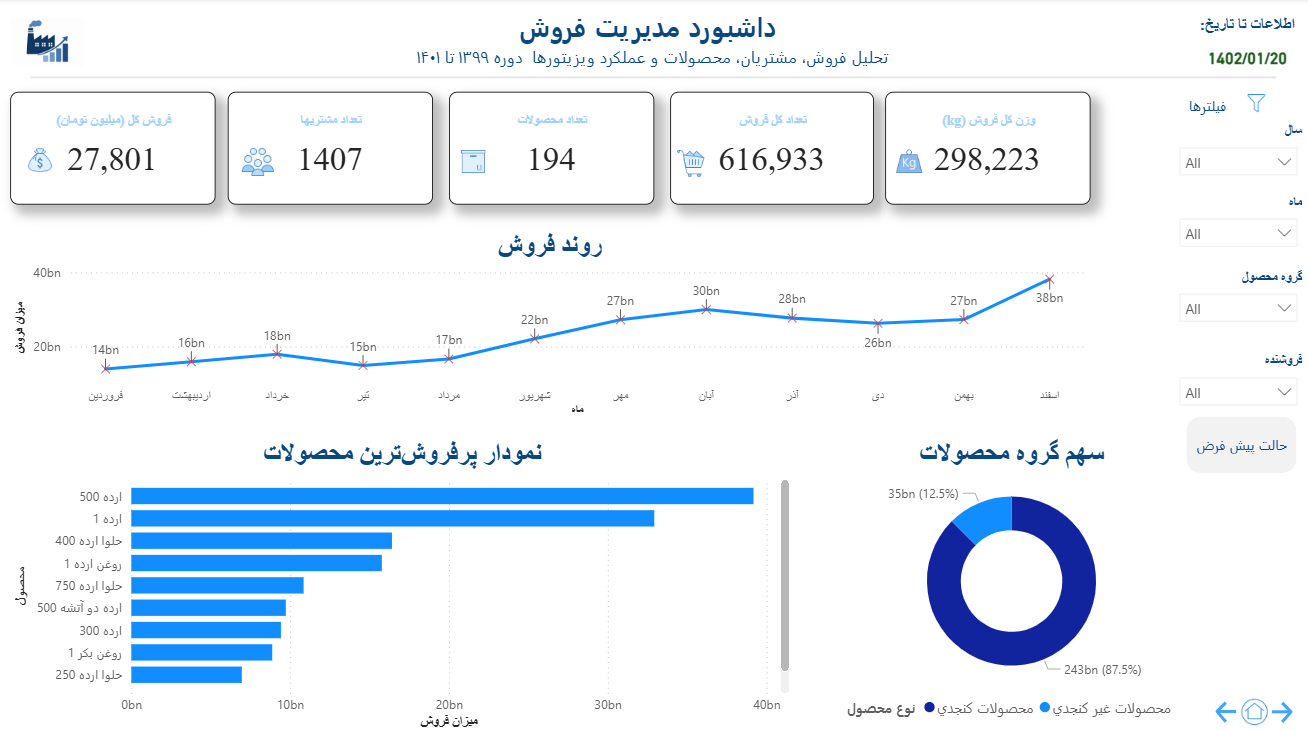

Layout of this report page (visuals, bound fields, positions):
{"tool":"powerbi","page":{"name":"کلیات","canvas":[1280,720],"ordinal":1},"visuals":[{"type":"card","title":"فروش کل (میلیون تومان)","fields":{"Values":["expdata.Total Sales(MT)"]},"box":[11.5,91.4,200.4,110.2],"z":0},{"type":"lineChart","title":"روند فروش","fields":{"Y":["Sum(expdata.TotalNetSales)"],"Category":["Calendar.ShamsiMonthName"]},"box":[11.5,227.7,1055.6,186.8],"z":1000},{"type":"clusteredBarChart","title":"نمودار پرفروشترین محصولات","fields":{"Category":["expdata.ProdName"],"Y":["Sum(expdata.TotalNetSales)"]},"box":[11.5,430.2,767.1,289.6],"z":2000},{"type":"donutChart","title":"سهم گروه محصولات","fields":{"Category":["expdata.FirstParent"],"Y":["Sum(expdata.TotalNetSales)"]},"box":[782.5,430,416.2,282.5],"z":3000},{"type":"slicer","title":"سال","fields":{"Values":["Calendar.ShamsiYear"]},"box":[1144.8,122.8,135.4,69.3],"z":4000},{"type":"slicer","title":"ماه","fields":{"Values":["Calendar.ShamsiMonthName"]},"box":[1144.8,192,135.4,69.3],"z":5000},{"type":"slicer","title":"گروه محصول","fields":{"Values":["expdata.FirstParent"]},"box":[1144.8,265.5,135.4,64],"z":6000},{"type":"slicer","title":"فروشنده","fields":{"Values":["expdata.VisitorName"]},"box":[1144.8,347.3,135.4,67.2],"z":7000},{"type":"textbox","box":[211.6,3.7,856,77],"z":8000},{"type":"card","title":" تعداد مشتریها","fields":{"Values":["expdata.Customers"]},"box":[223.5,91.4,200.4,110.2],"z":9000},{"type":"card","title":" تعداد محصولات","fields":{"Values":["expdata.Products"]},"box":[439.7,91.4,200.4,110.2],"z":10000},{"type":"card","title":"تعداد کل فروش ","fields":{"Values":["expdata.Total Quantity"]},"box":[656.9,91.4,199.4,110.2],"z":11000},{"type":"card","title":"(kg) وزن کل فروش ","fields":{"Values":["expdata.Total Weight"]},"box":[866.8,91.4,200.4,110.2],"z":12000},{"type":"textbox","box":[1161.2,12.5,118.8,30],"z":13000},{"type":"card","fields":{"Values":["Calendar.اطلاعات_تا_تاریخ"]},"box":[1173.8,38.8,95,42.5],"z":14000},{"type":"image","box":[660.4,148.1,32.5,28.3],"z":15000},{"type":"image","box":[27.7,129.2,24.1,57.7],"z":16000},{"type":"image","box":[236.5,143.9,34.6,31.5],"z":17000},{"type":"image","box":[424.3,147,79.8,26.2],"z":18000},{"type":"image","box":[876.6,138.6,27.3,43],"z":19000},{"type":"image","box":[11,2.4,72.1,81.9],"z":20000},{"type":"actionButton","box":[1161.7,409.6,107.6,55],"z":21000},{"type":"shape","box":[30.6,59.9,1219.2,35.5],"z":22000},{"type":"textbox","box":[1159.2,91.5,53.8,33],"z":23000},{"type":"image","box":[1220.4,91.7,19.6,22],"z":24000},{"type":"actionButton","box":[1186.1,682.3,29.3,33],"z":25000},{"type":"actionButton","box":[1240,678.7,29.3,40.4],"z":26000},{"type":"image","box":[1215.5,684.8,25.7,26.9],"z":27000}]}

Visuals, with their boxes in screenshot pixels (x1, y1, x2, y2), scaled from the page's 1280x720 canvas onto the 1308x730 screenshot:
"فروش کل (میلیون تومان)" card: 12/93/217/204
"روند فروش" lineChart: 12/231/1090/420
"نمودار پرفروشترین محصولات" clusteredBarChart: 12/436/796/729
"سهم گروه محصولات" donutChart: 800/436/1225/722
"سال" slicer: 1170/125/1307/195
"ماه" slicer: 1170/195/1307/265
"گروه محصول" slicer: 1170/269/1307/334
"فروشنده" slicer: 1170/352/1307/420
textbox: 216/4/1091/82
" تعداد مشتریها" card: 228/93/433/204
" تعداد محصولات" card: 449/93/654/204
"تعداد کل فروش " card: 671/93/875/204
"(kg) وزن کل فروش " card: 886/93/1091/204
textbox: 1187/13/1307/43
card - Calendar.اطلاعات_تا_تاریخ: 1199/39/1297/82
image: 675/150/708/179
image: 28/131/53/189
image: 242/146/277/178
image: 434/149/515/176
image: 896/141/924/184
image: 11/2/85/85
actionButton: 1187/415/1297/471
shape: 31/61/1277/97
textbox: 1185/93/1240/126
image: 1247/93/1267/115
actionButton: 1212/692/1242/725
actionButton: 1267/688/1297/729
image: 1242/694/1268/722
